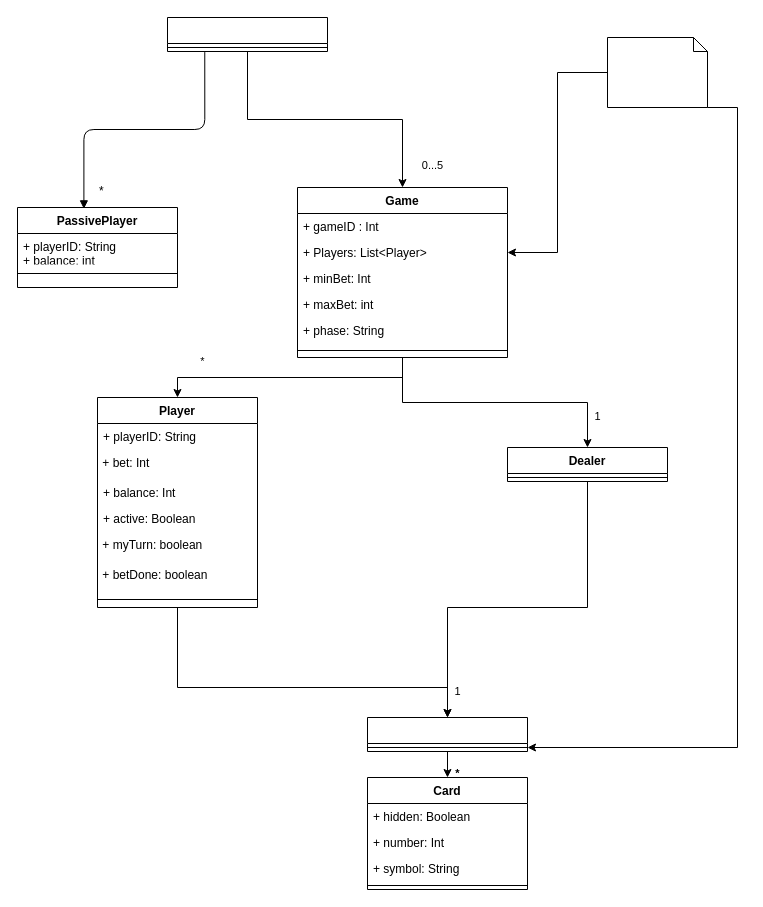
This 763x907 diagram has some shape labels left out. The centre of each missing label's shape, as x and y in pixels:
"Hand" goes at point 447,734.
"Inkonsistent" goes at point 657,72.
"Lobby" goes at point 247,34.
